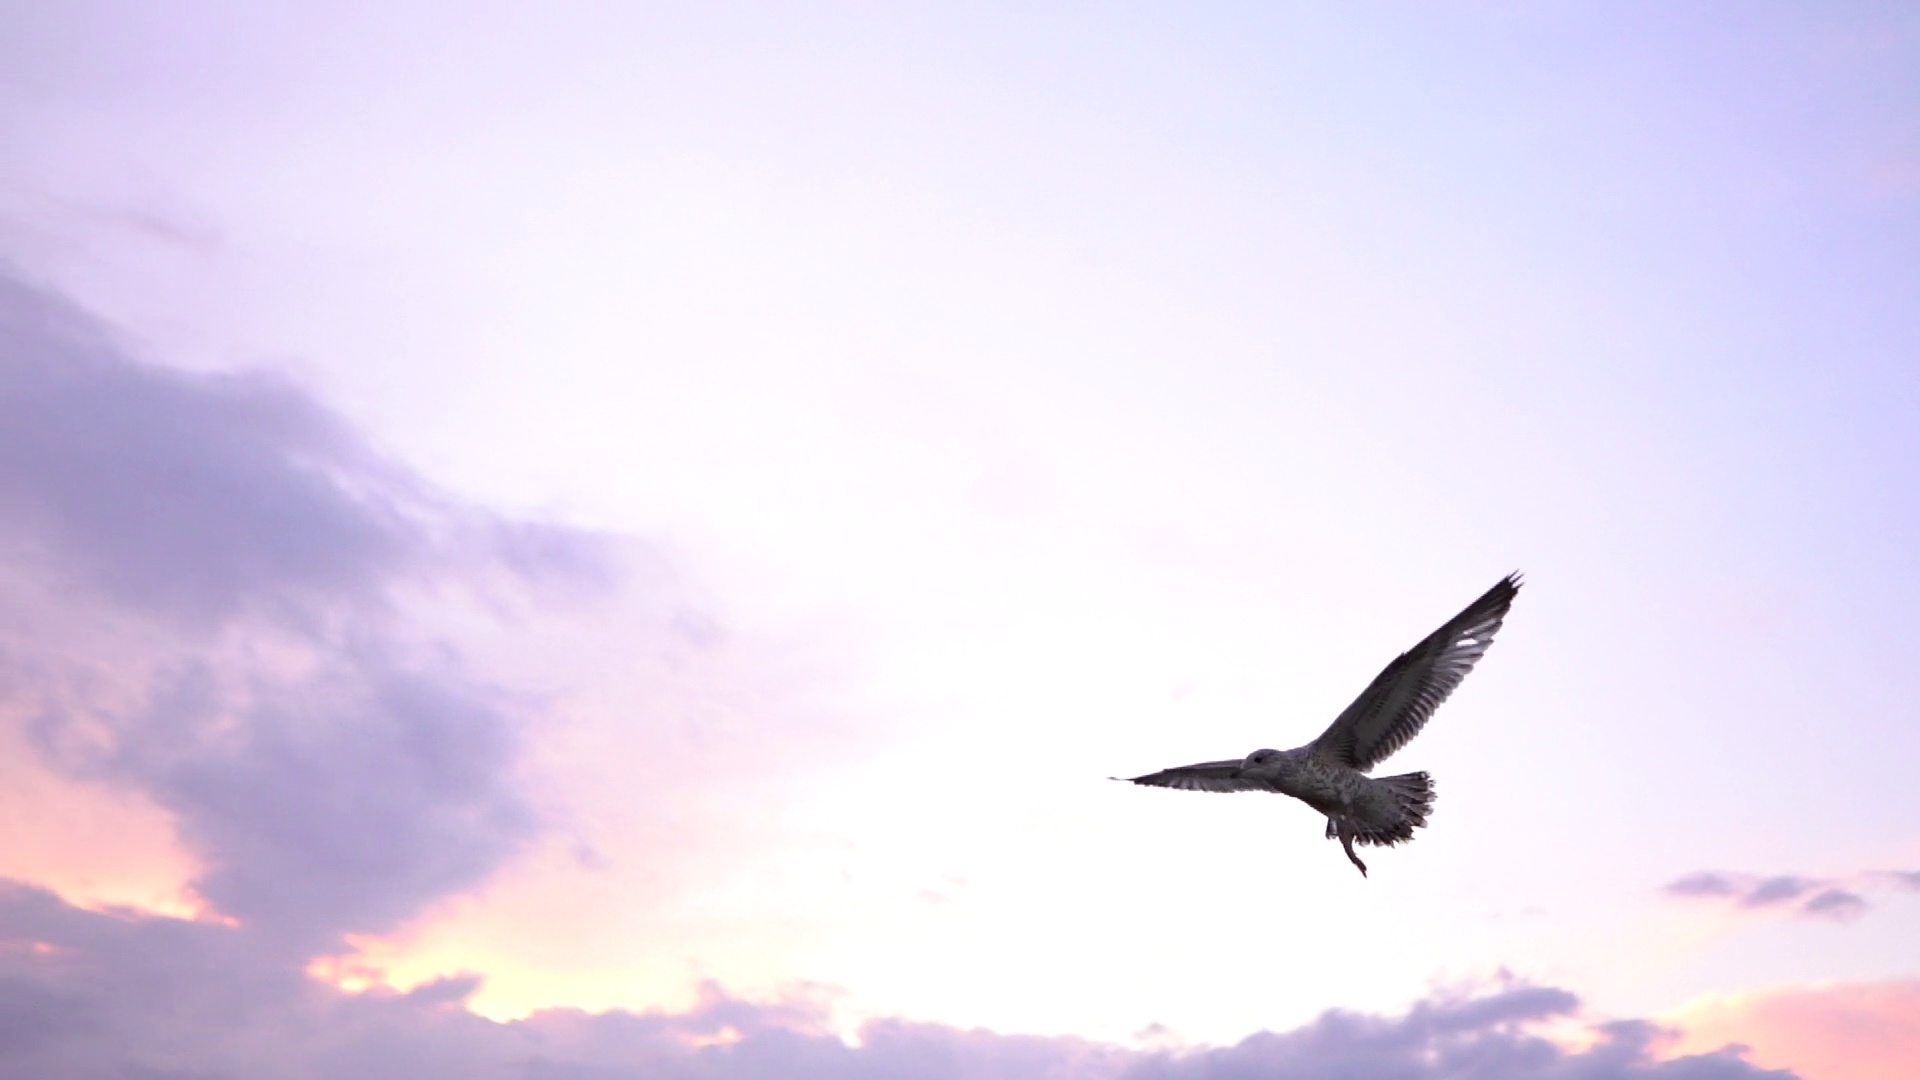bird: (1106, 568, 1524, 878)
